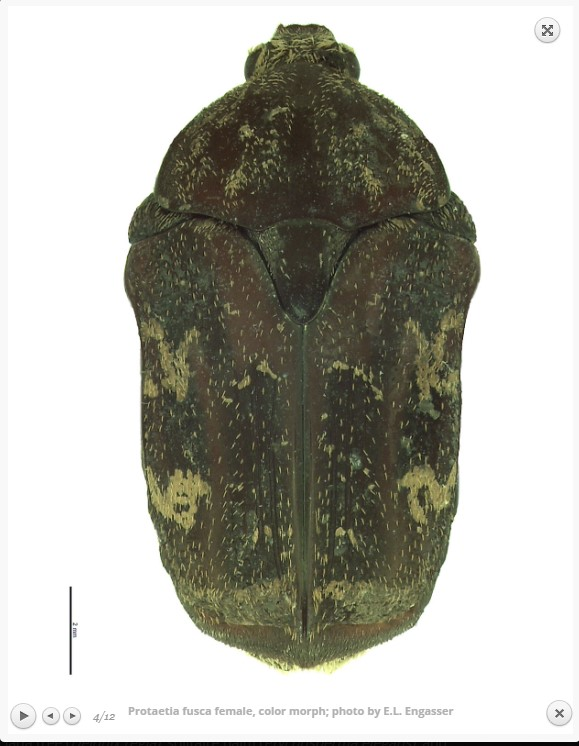Protaetia_fusca: (121, 19, 484, 676)
